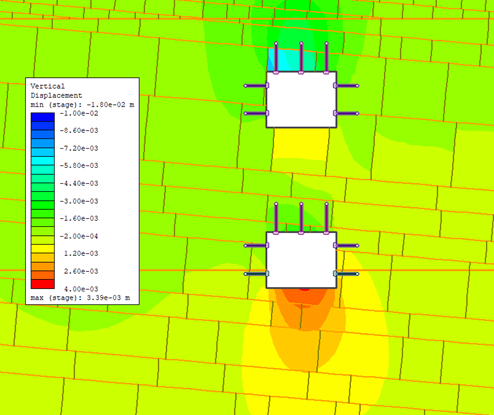crown: (289, 224, 311, 230), (289, 65, 311, 70)
label: (25, 77, 139, 305)
tunnel-opening: (266, 72, 336, 127), (266, 233, 335, 287)
